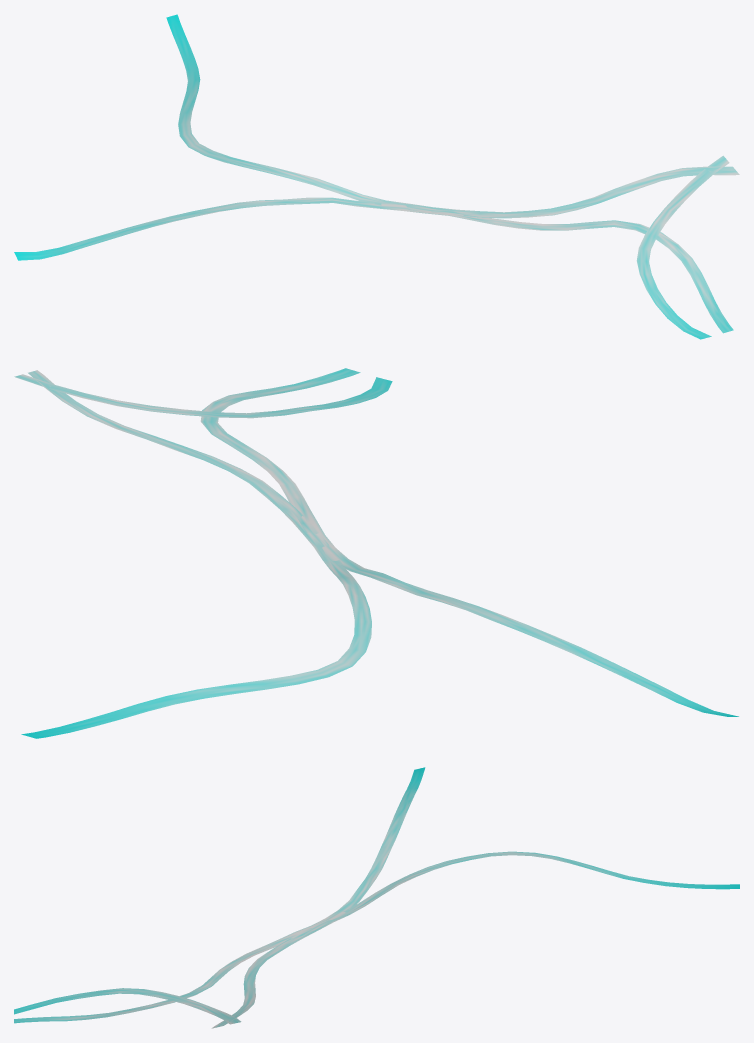
The picture shows the model from 3 angles, top to bottom: view 1: azimuth 30°, elevation 25°; view 2: azimuth 150°, elevation 25°; view 3: azimuth 270°, elevation 25°; orthographic projection. The views are drawn at different scales.
Visible parts, largest first — view 1: SpaceCenter_Long3_GenerateRoad_Sand_TireTracks_Width_Mesh_x9; view 2: SpaceCenter_Long3_GenerateRoad_Sand_TireTracks_Width_Mesh_x9; view 3: SpaceCenter_Long3_GenerateRoad_Sand_TireTracks_Width_Mesh_x9.
Boxes of the visible parts, x1,y1,x2,y2 form: SpaceCenter_Long3_GenerateRoad_Sand_TireTracks_Width_Mesh_x9: (14,14,739,339); SpaceCenter_Long3_GenerateRoad_Sand_TireTracks_Width_Mesh_x9: (14,368,738,738); SpaceCenter_Long3_GenerateRoad_Sand_TireTracks_Width_Mesh_x9: (14,767,739,1028).
Bounding box in the file's own units: 2304 × 2064 × 220.
